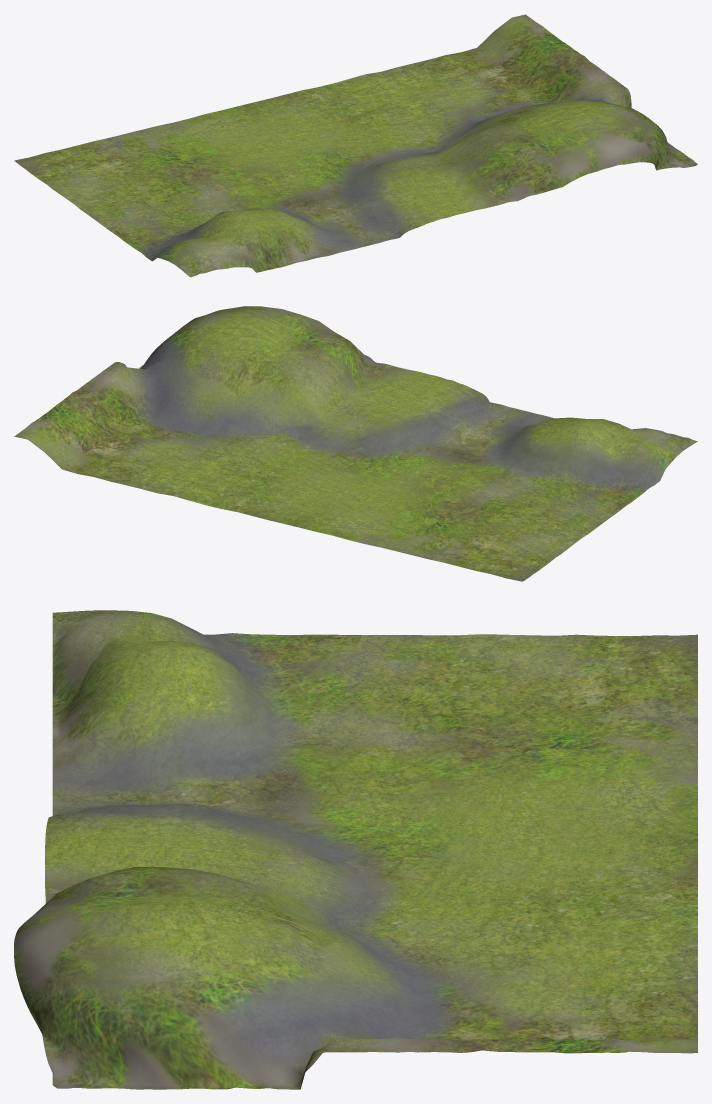
The model's file is terreno2.fbx.
3 renders of one model, top to bottom at view 1: azimuth 30°, elevation 25°; view 2: azimuth 150°, elevation 25°; view 3: azimuth 270°, elevation 25°, orthographic. The views are drawn at different scales.
Visible parts, largest first — view 1: Landscape.029; view 2: Landscape.029; view 3: Landscape.029.
Boxes of the visible parts, x1,y1,x2,y2 form: Landscape.029: (14, 14, 697, 277); Landscape.029: (14, 306, 697, 581); Landscape.029: (14, 610, 697, 1089).
Size of the model in its own units: 101 by 9.45 by 63.59.
